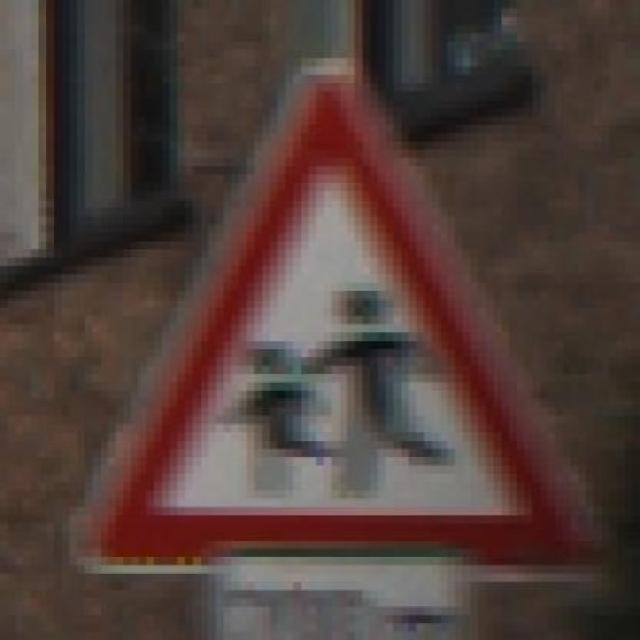Beware of children: (61, 49, 602, 588)
